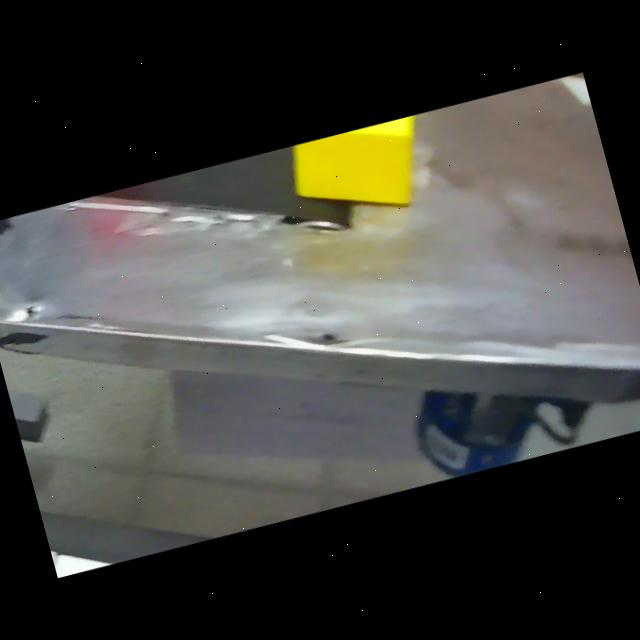redBox: (65, 178, 158, 206)
yellowBox: (280, 111, 442, 241)
